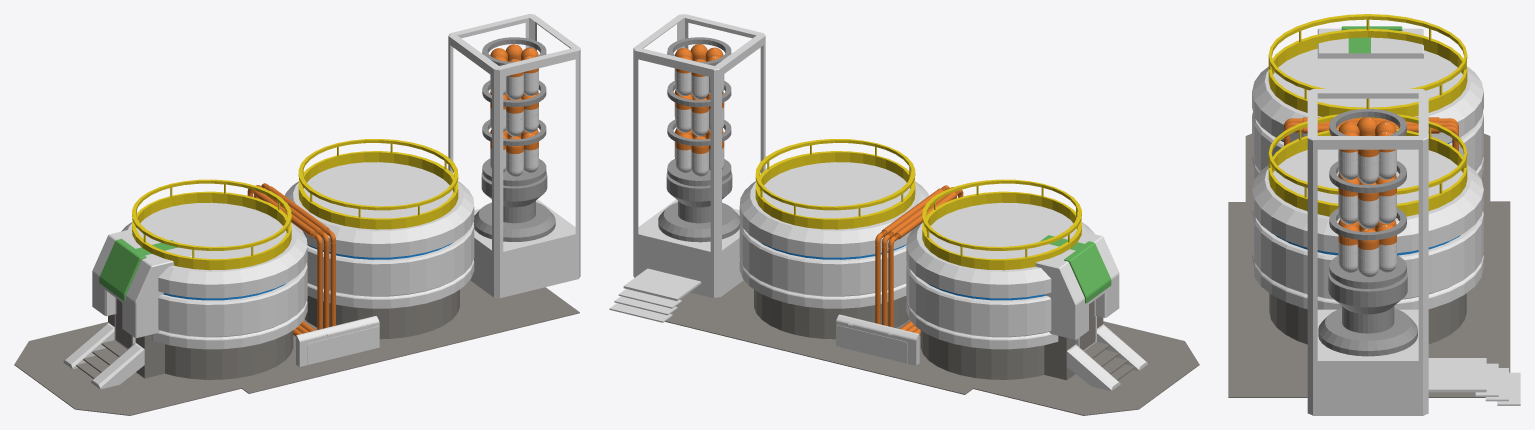
File: Manufacturing_Hub.fbx
3 renders of one model, left to right at view 1: azimuth 30°, elevation 25°; view 2: azimuth 150°, elevation 25°; view 3: azimuth 270°, elevation 25°, orthographic. The views are drawn at different scales.
Visible parts, largest first — view 1: Slice.003; view 2: Slice.003; view 3: Slice.003.
Boxes of the visible parts, x1,y1,x2,y2 form: Slice.003: (14, 14, 580, 415); Slice.003: (609, 14, 1199, 415); Slice.003: (1228, 14, 1520, 415).
Bounding box in the file's own units: 1865 × 816 × 762.
